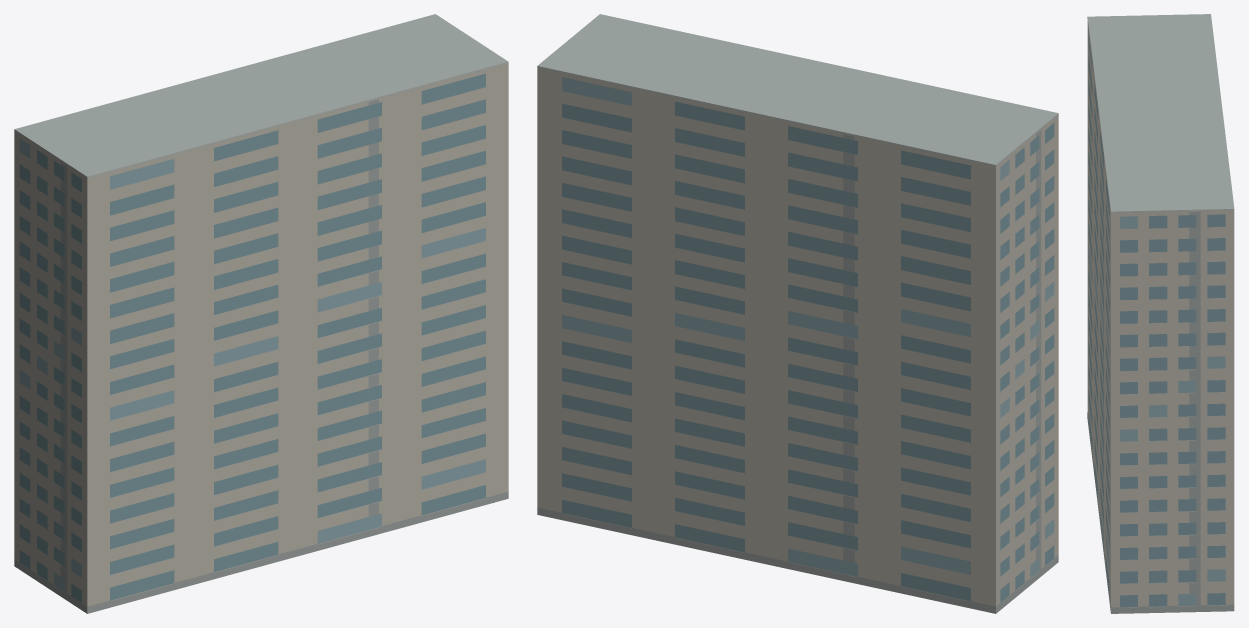
File: residential-a7bc3334-6aba-4c95-8d8f-f81a7deb97bf.glb
3 renders of one model, left to right at view 1: azimuth 30°, elevation 25°; view 2: azimuth 150°, elevation 25°; view 3: azimuth 270°, elevation 25°, orthographic. The views are drawn at different scales.
Visible parts, largest first — view 1: residential-a7bc3334-6aba-4c95-8d8f-f81a7deb97bf.tmp; view 2: residential-a7bc3334-6aba-4c95-8d8f-f81a7deb97bf.tmp; view 3: residential-a7bc3334-6aba-4c95-8d8f-f81a7deb97bf.tmp.
Boxes of the visible parts, <box> form: residential-a7bc3334-6aba-4c95-8d8f-f81a7deb97bf.tmp: <box>14,14,508,613</box>; residential-a7bc3334-6aba-4c95-8d8f-f81a7deb97bf.tmp: <box>537,14,1058,613</box>; residential-a7bc3334-6aba-4c95-8d8f-f81a7deb97bf.tmp: <box>1087,14,1234,613</box>.
Bounding box in the file's own units: 49.5 × 47 × 15.56.
